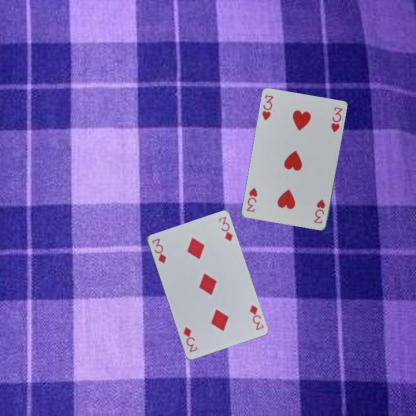3d: (149, 235, 168, 264), (246, 302, 264, 331)
3h: (260, 92, 274, 121), (312, 197, 326, 225)
